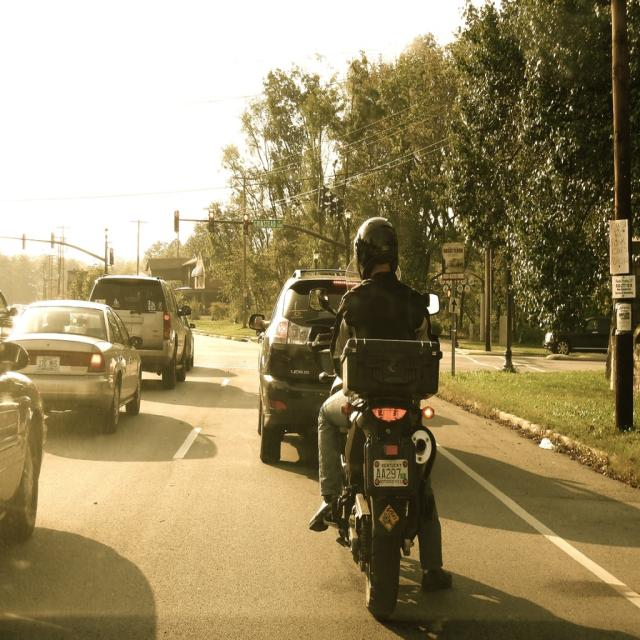Motorbikes: (318, 316, 446, 622)
Passenger Car: (4, 283, 147, 435), (257, 272, 339, 470), (1, 330, 68, 544), (134, 266, 194, 388), (544, 304, 612, 358)
